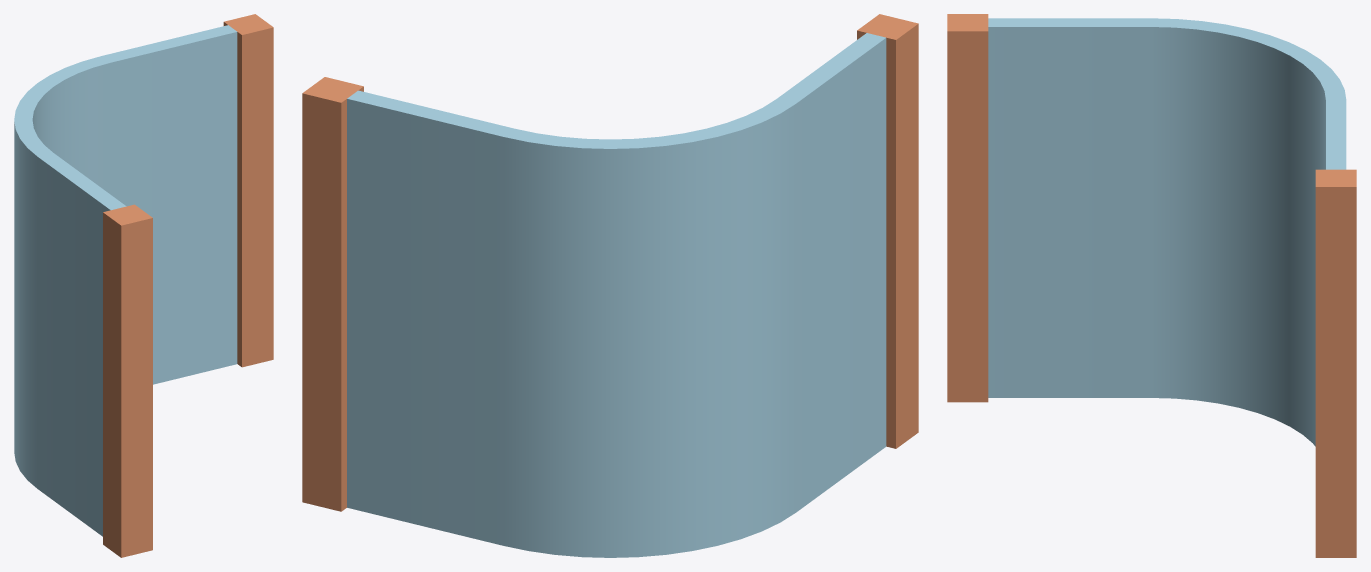
File: wallRounded.glb
3 renders of one model, left to right at view 1: azimuth 30°, elevation 25°; view 2: azimuth 150°, elevation 25°; view 3: azimuth 270°, elevation 25°, orthographic. The views are drawn at different scales.
Visible parts, largest first — view 1: wallRounded; view 2: wallRounded; view 3: wallRounded.
Part boxes in pixels (bbox=[...]): wallRounded: bbox=[14, 14, 273, 557]; wallRounded: bbox=[302, 14, 918, 557]; wallRounded: bbox=[947, 14, 1356, 557].
Bounding box in the file's own units: 1 × 1 × 1.
